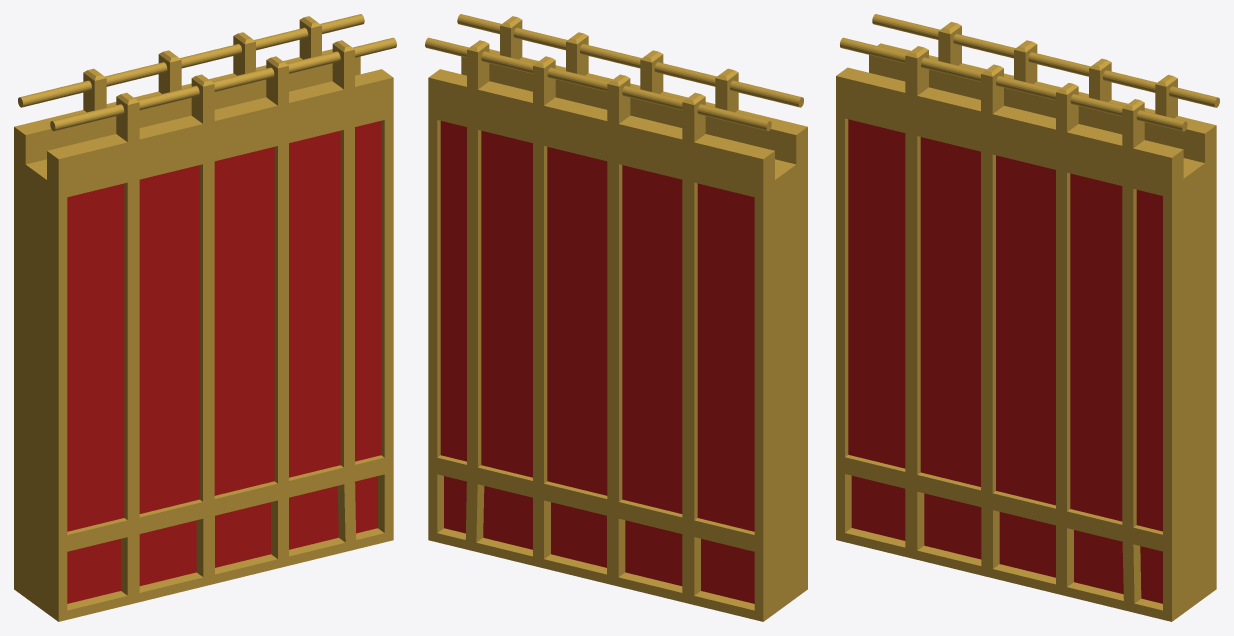
Rendered from WallClean.fbx.
The picture shows the model from 3 angles, left to right: view 1: azimuth 30°, elevation 25°; view 2: azimuth 150°, elevation 25°; view 3: azimuth 330°, elevation 25°; orthographic projection.
Visible parts, largest first — view 1: msh_wall_clean; view 2: msh_wall_clean; view 3: msh_wall_clean.
Boxes of the visible parts, x1=… form: msh_wall_clean: x1=14, y1=14, x2=396, y2=621; msh_wall_clean: x1=425, y1=14, x2=807, y2=621; msh_wall_clean: x1=836, y1=14, x2=1219, y2=621.
Bounding box in the file's own units: 3.87 × 5.44 × 0.8721.
